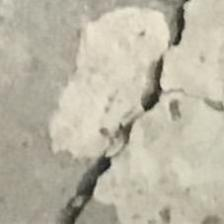Crack: (49, 0, 223, 221)
